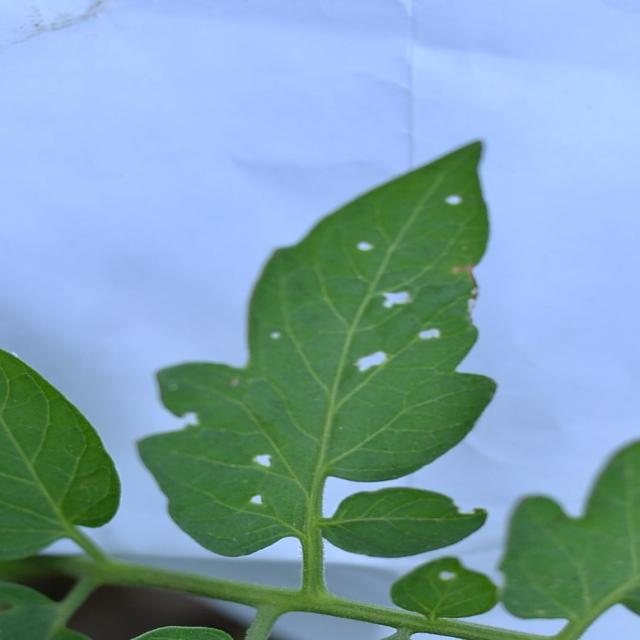infected: (244, 181, 496, 510)
